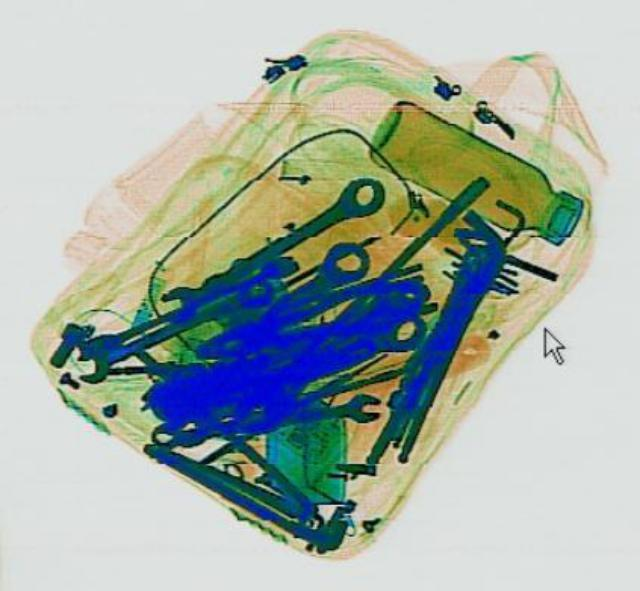Pliers: (183, 258, 439, 377)
Wrench: (148, 168, 396, 327), (63, 270, 277, 387), (146, 389, 382, 449)
